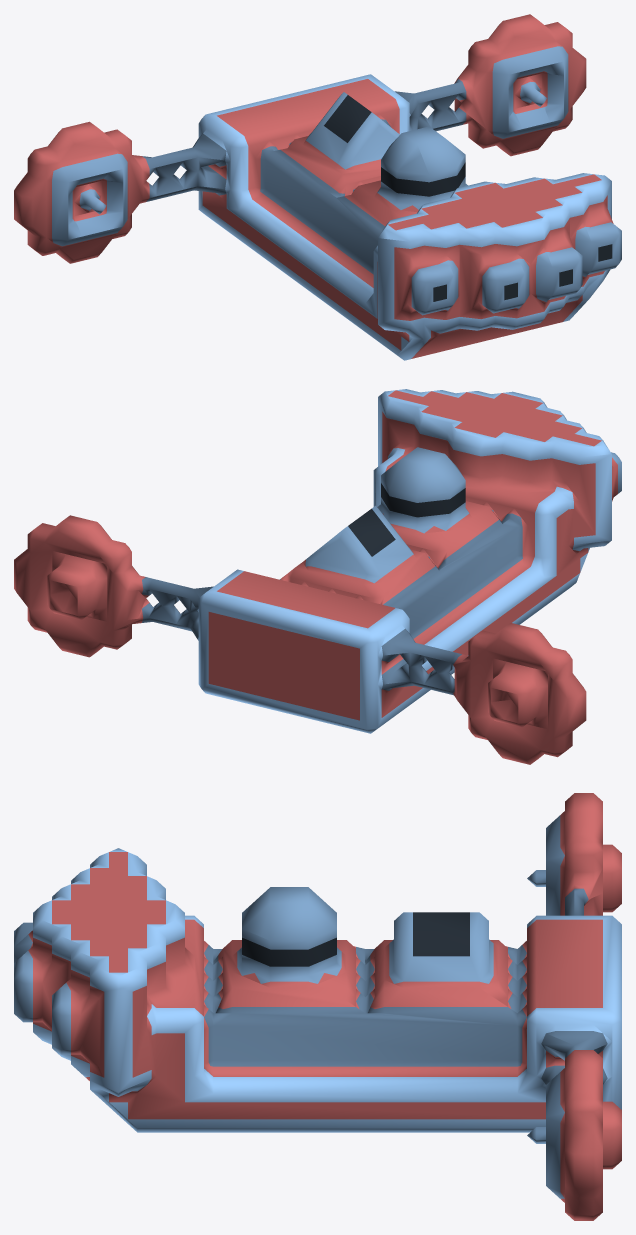
The model's file is usa-1-jefferson-class.obj.
3 views of the same model, one above another, from view 1: azimuth 30°, elevation 25°; view 2: azimuth 150°, elevation 25°; view 3: azimuth 270°, elevation 25° (orthographic). The views are drawn at different scales.
Size of the model in its own units: 41 by 11 by 32.
1 material, 1 textured.
